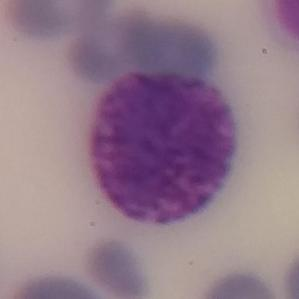Basophil: (81, 62, 243, 229)
Monocyte: (260, 0, 299, 61)
RBC: (62, 3, 158, 80), (119, 18, 221, 82), (80, 235, 153, 299), (1, 0, 76, 43), (11, 269, 109, 299), (198, 267, 281, 299), (280, 245, 299, 299)
